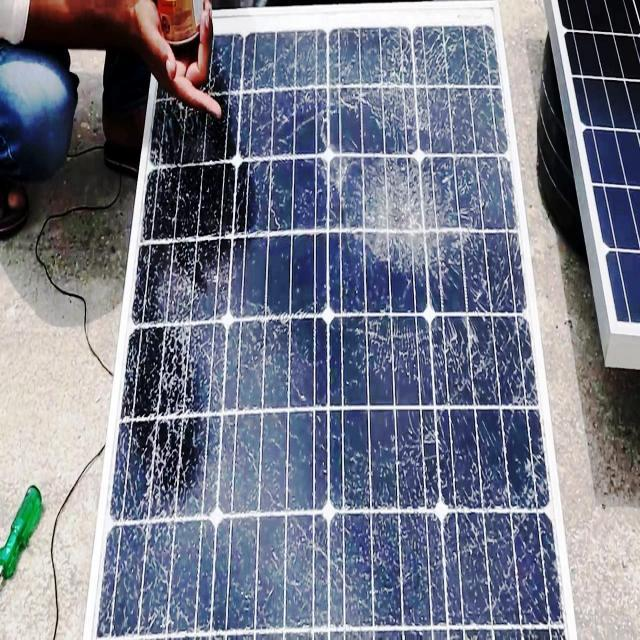faulty: (91, 14, 570, 634)
no faulty: (544, 0, 640, 367)
